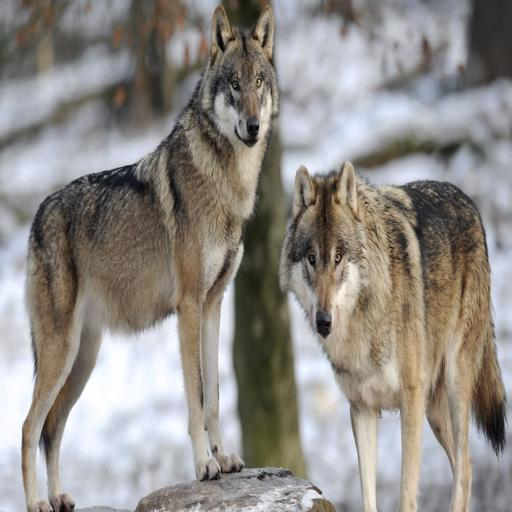Wolf: (12, 0, 286, 510), (280, 162, 512, 509)
